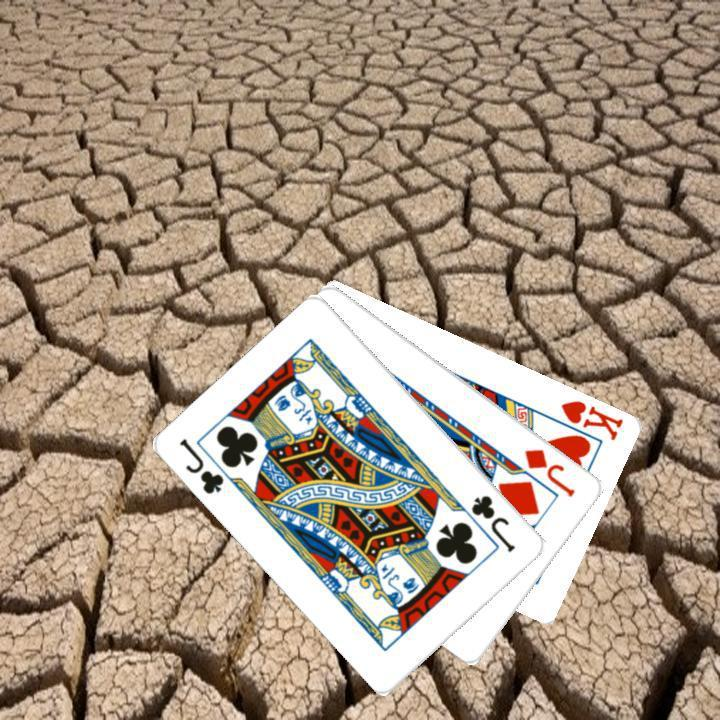J: (175, 433, 227, 497), (467, 490, 518, 555), (520, 444, 578, 499)
K: (557, 395, 626, 442)
